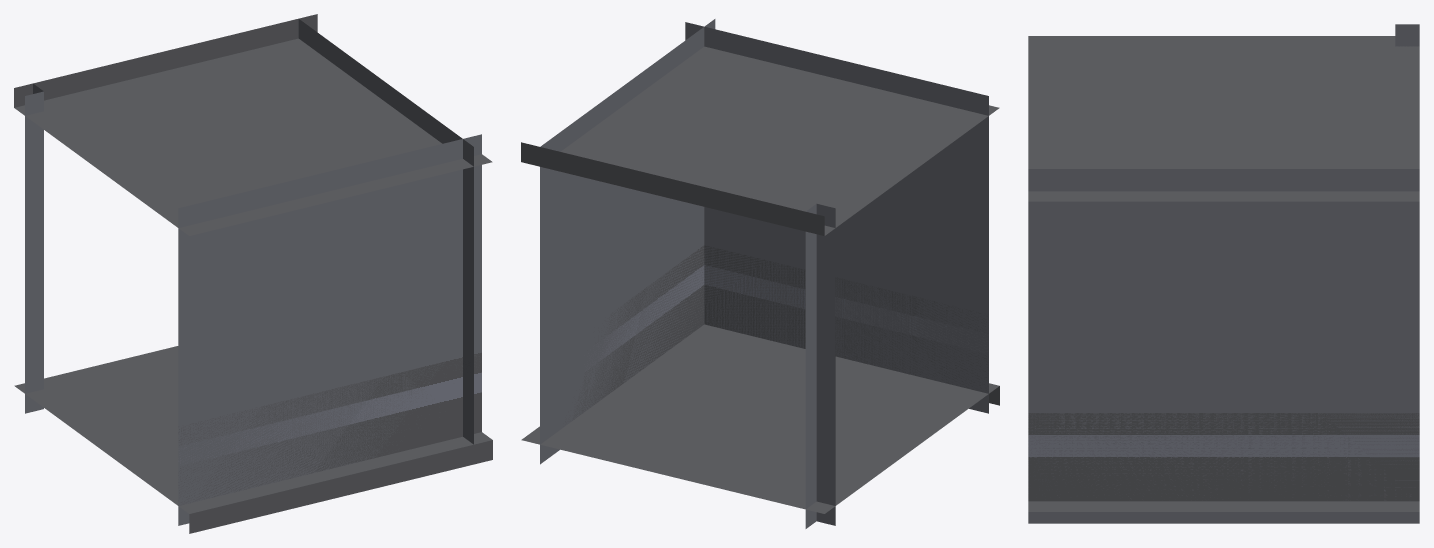
Rendered from wall_tileset.gltf.
3 renders of one model, left to right at view 1: azimuth 30°, elevation 25°; view 2: azimuth 150°, elevation 25°; view 3: azimuth 270°, elevation 25°, orthographic. The views are drawn at different scales.
Parts seen in each view (by area): view 1: top_wall, bottom_wall, middle_wall, top_wall_out_out_corner, middle_wall_out_out_corner, bottom_out_out_corner, middle_wall_corner, bottom_wall_corner; view 2: top_wall, bottom_wall, top_wall_corner, middle_wall, bottom_wall_corner, bottom_out_out_corner, top_wall_out_out_corner, middle_wall_corner, middle_wall_out_out_corner; view 3: top_wall_corner, bottom_wall_corner, top_wall, middle_wall_corner, bottom_out_out_corner, top_wall_out_out_corner, bottom_wall, middle_wall_out_out_corner.
Part boxes in pixels (left/top/right/bottom): top_wall: left=14, top=14, right=492, bottom=525; bottom_wall: left=14, top=134, right=492, bottom=533; middle_wall: left=178, top=134, right=481, bottom=525; top_wall_out_out_corner: left=25, top=116, right=481, bottom=444; middle_wall_out_out_corner: left=25, top=83, right=480, bottom=443; bottom_out_out_corner: left=25, top=84, right=481, bottom=430; middle_wall_corner: left=298, top=19, right=461, bottom=143; bottom_wall_corner: left=299, top=20, right=462, bottom=143; top_wall: left=521, top=46, right=999, bottom=413; bottom_wall: left=521, top=22, right=999, bottom=513; top_wall_corner: left=540, top=167, right=704, bottom=464; middle_wall: left=685, top=22, right=988, bottom=413; bottom_wall_corner: left=540, top=28, right=704, bottom=421; bottom_out_out_corner: left=685, top=19, right=835, bottom=508; top_wall_out_out_corner: left=805, top=229, right=835, bottom=528; middle_wall_corner: left=540, top=27, right=704, bottom=462; middle_wall_out_out_corner: left=685, top=21, right=835, bottom=527; top_wall_corner: left=1052, top=201, right=1419, bottom=523; bottom_wall_corner: left=1052, top=169, right=1419, bottom=501; top_wall: left=1028, top=36, right=1419, bottom=201; middle_wall_corner: left=1052, top=169, right=1419, bottom=523; bottom_out_out_corner: left=1028, top=24, right=1419, bottom=501; top_wall_out_out_corner: left=1028, top=201, right=1052, bottom=523; bottom_wall: left=1028, top=501, right=1419, bottom=511; middle_wall_out_out_corner: left=1028, top=24, right=1419, bottom=523.
Size of the model in its own units: 1 by 1 by 1.
Materials: 1 (1 with a texture image).
